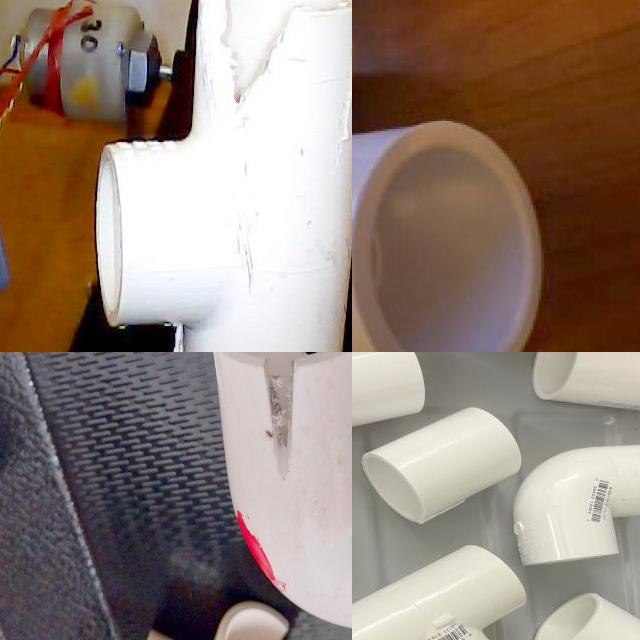Defective: (204, 0, 306, 122), (326, 0, 352, 182), (19, 487, 124, 529)
L Joint: (0, 357, 173, 640), (352, 121, 545, 352), (127, 352, 352, 441), (513, 445, 640, 567)
T Joint: (352, 545, 528, 640)
